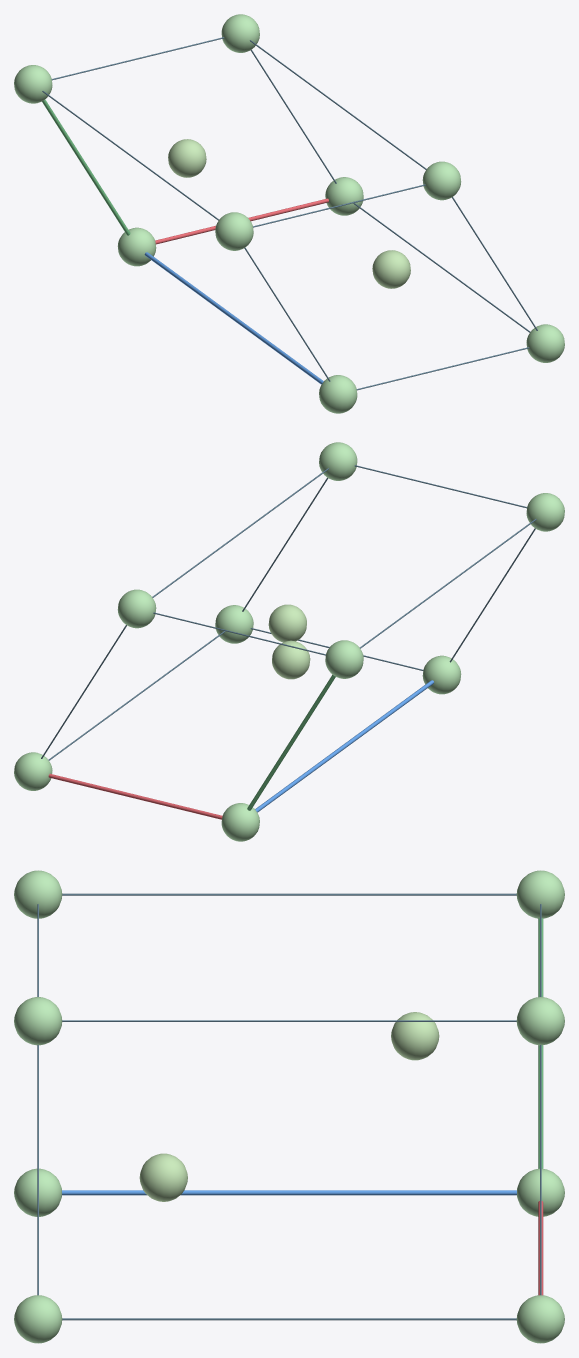
The model's file is chat-cobalt-iodide.glb.
3 renders of one model, top to bottom at view 1: azimuth 30°, elevation 25°; view 2: azimuth 150°, elevation 25°; view 3: azimuth 270°, elevation 25°, orthographic. The views are drawn at different scales.
Parts seen in each view (by area): view 1: Co · Co · 1 (×8), Ô mạng và các trục a, b, c, I · I · 1 (×2); view 2: Co · Co · 1 (×8), Ô mạng và các trục a, b, c, I · I · 1 (×2); view 3: Co · Co · 1 (×8), Ô mạng và các trục a, b, c, I · I · 1 (×2).
Part boxes in pixels (box(x1,y1,x2,y2)): Co · Co · 1 (×8): box(14, 14, 564, 413); Ô mạng và các trục a, b, c: box(42, 37, 537, 390); I · I · 1 (×2): box(168, 139, 410, 288); Co · Co · 1 (×8): box(14, 442, 564, 841); Ô mạng và các trục a, b, c: box(41, 465, 536, 819); I · I · 1 (×2): box(268, 604, 310, 679); Co · Co · 1 (×8): box(14, 870, 564, 1343); Ô mạng và các trục a, b, c: box(37, 893, 543, 1320); I · I · 1 (×2): box(139, 1012, 439, 1201).
Bounding box in the file's own units: 6.58 × 4.07 × 7.29.
